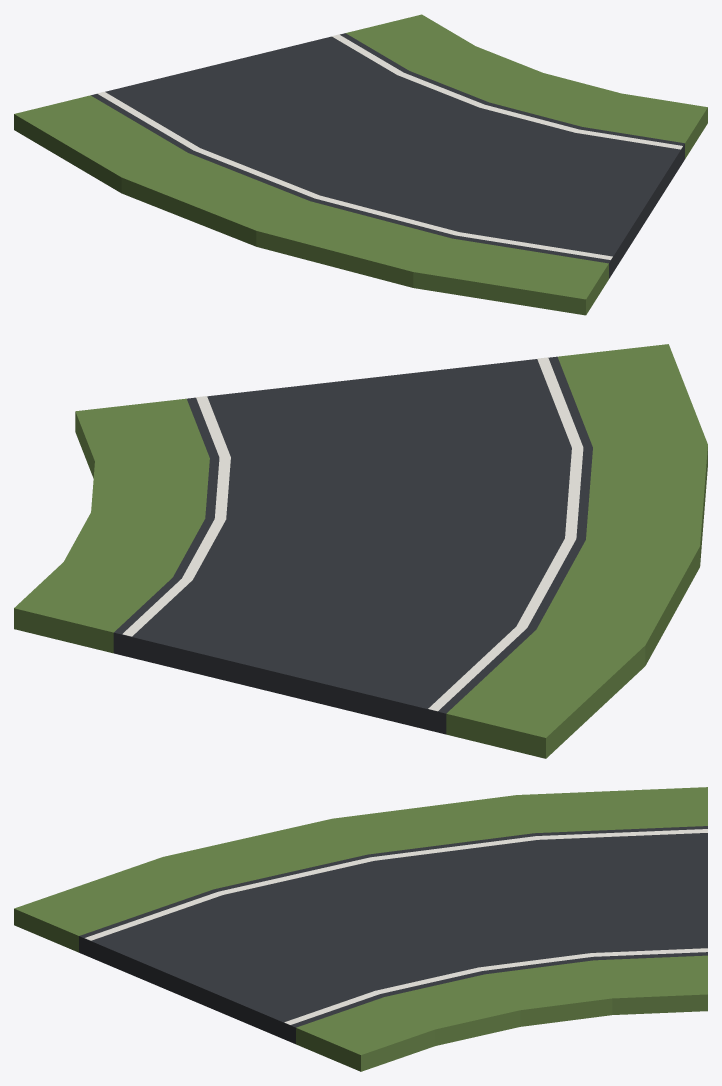
The model's file is HighwayRamp_1Lane_Curve45_L.glb.
3 renders of one model, top to bottom at view 1: azimuth 30°, elevation 25°; view 2: azimuth 150°, elevation 25°; view 3: azimuth 270°, elevation 25°, orthographic. The views are drawn at different scales.
Parts seen in each view (by area): view 1: HighwayRamp_1Lane_Curve45_L_Asphalt, HighwayRamp_1Lane_Curve45_L_Grass-edge, HighwayRamp_1Lane_Curve45_L_PaintWhite; view 2: HighwayRamp_1Lane_Curve45_L_Asphalt, HighwayRamp_1Lane_Curve45_L_Grass-edge, HighwayRamp_1Lane_Curve45_L_PaintWhite; view 3: HighwayRamp_1Lane_Curve45_L_Asphalt, HighwayRamp_1Lane_Curve45_L_Grass-edge, HighwayRamp_1Lane_Curve45_L_PaintWhite.
Part boxes in pixels (bbox=[...]): HighwayRamp_1Lane_Curve45_L_Asphalt: bbox=[91, 33, 684, 278]; HighwayRamp_1Lane_Curve45_L_Grass-edge: bbox=[14, 14, 707, 315]; HighwayRamp_1Lane_Curve45_L_PaintWhite: bbox=[97, 34, 682, 259]; HighwayRamp_1Lane_Curve45_L_Asphalt: bbox=[113, 356, 592, 734]; HighwayRamp_1Lane_Curve45_L_Grass-edge: bbox=[14, 344, 707, 758]; HighwayRamp_1Lane_Curve45_L_PaintWhite: bbox=[122, 357, 583, 711]; HighwayRamp_1Lane_Curve45_L_Asphalt: bbox=[79, 826, 707, 1044]; HighwayRamp_1Lane_Curve45_L_Grass-edge: bbox=[14, 787, 707, 1071]; HighwayRamp_1Lane_Curve45_L_PaintWhite: bbox=[85, 829, 707, 1024].
Bounding box in the file's own units: 10.34 × 0.305 × 11.31.
